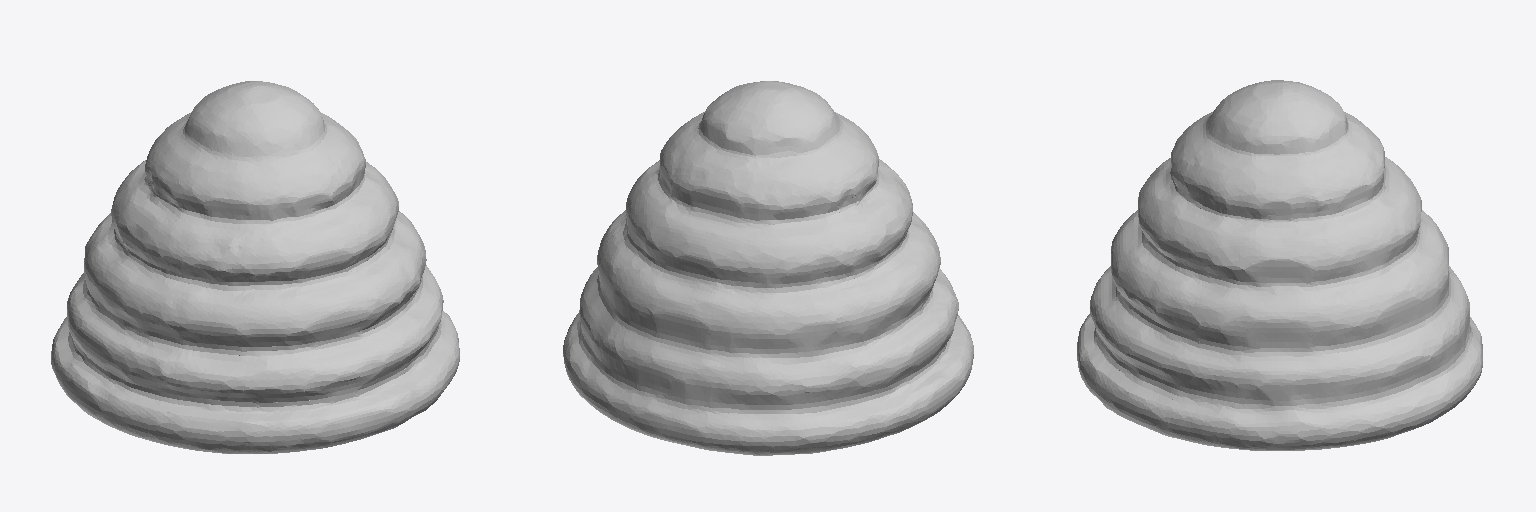
File: arbusto.obj
The picture shows the model from 3 angles: view 1: azimuth 30°, elevation 25°; view 2: azimuth 150°, elevation 25°; view 3: azimuth 270°, elevation 25°; orthographic projection.
Parts seen in each view (by area): view 1: Mesh_0; view 2: Mesh_0; view 3: Mesh_0.
Part boxes in pixels (bbox=[...]): Mesh_0: bbox=[51, 81, 459, 453]; Mesh_0: bbox=[563, 81, 973, 455]; Mesh_0: bbox=[1077, 80, 1482, 450].
Size of the model in its own units: 2.4 by 2.17 by 2.38.